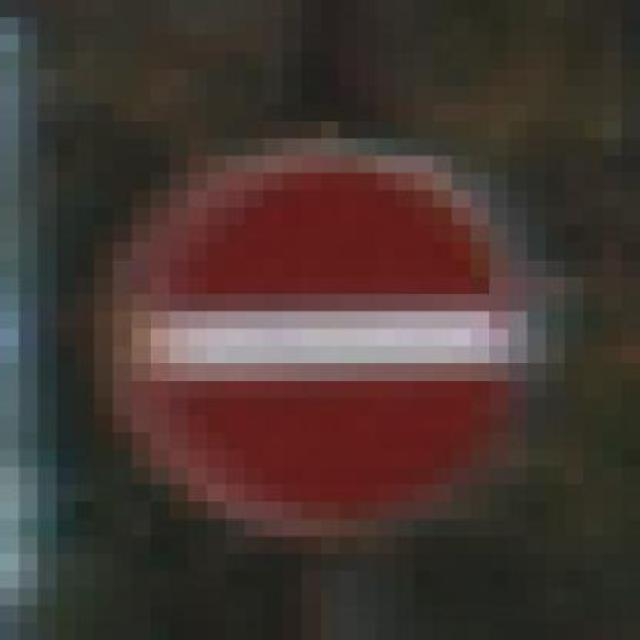No Entry: (57, 104, 566, 536)
